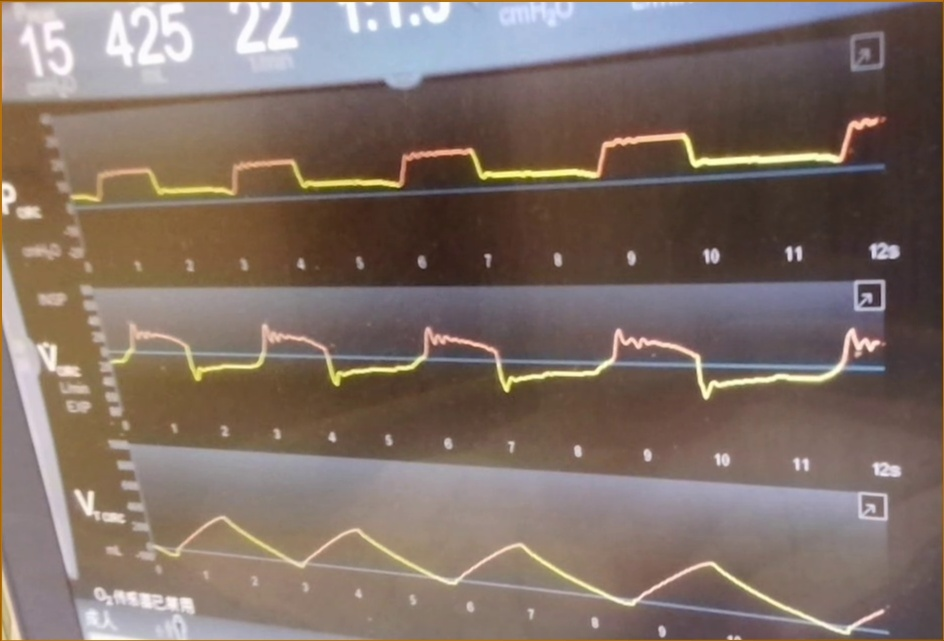Accumulation Flow: (111, 306, 882, 436)
Volume: (155, 499, 876, 638)
